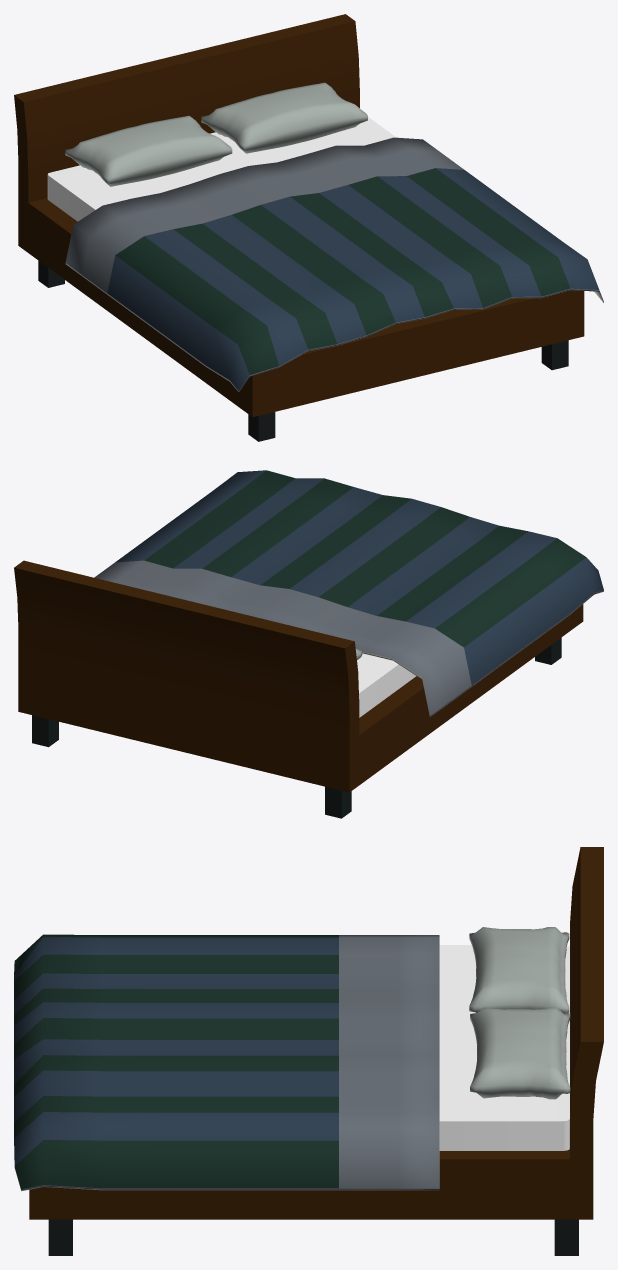
Rendered from Yatak (1).fbx.
3 renders of one model, top to bottom at view 1: azimuth 30°, elevation 25°; view 2: azimuth 150°, elevation 25°; view 3: azimuth 270°, elevation 25°, orthographic. The views are drawn at different scales.
Visible parts, largest first — view 1: Yorgan, Yatak, Yatak_Yastık_2, Yatak_Yastık_1; view 2: Yatak, Yorgan; view 3: Yorgan, Yatak, Yatak_Yastık_2, Yatak_Yastık_1.
Part boxes in pixels (x1,y1,x2,y2): Yorgan: [65, 137, 603, 391]; Yatak: [14, 14, 584, 441]; Yatak_Yastık_2: [201, 82, 367, 153]; Yatak_Yastık_1: [65, 115, 232, 186]; Yatak: [14, 560, 583, 818]; Yorgan: [94, 470, 603, 717]; Yorgan: [14, 934, 439, 1191]; Yatak: [29, 847, 603, 1255]; Yatak_Yastık_2: [470, 1007, 570, 1099]; Yatak_Yastık_1: [469, 927, 569, 1012].
Bounding box in the file's own units: 360 × 171 × 418.
